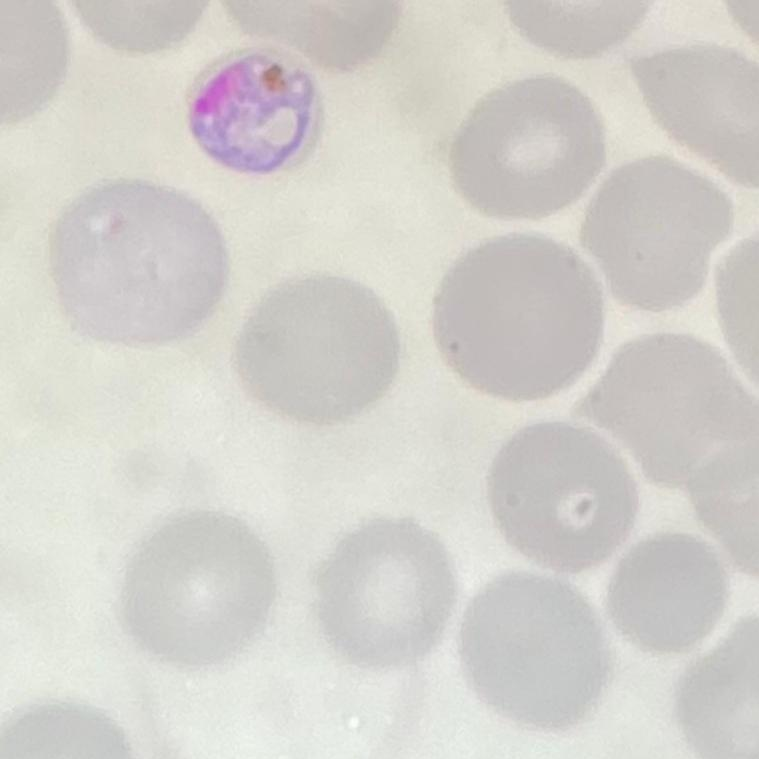Infected: (182, 37, 324, 184)
Uninfected: (48, 179, 224, 349), (578, 335, 755, 502), (432, 237, 605, 396), (230, 277, 404, 428), (118, 505, 277, 665), (450, 73, 608, 221), (584, 153, 729, 313), (460, 573, 605, 733), (492, 425, 635, 569), (310, 517, 452, 657), (632, 43, 759, 185), (598, 529, 727, 653)
